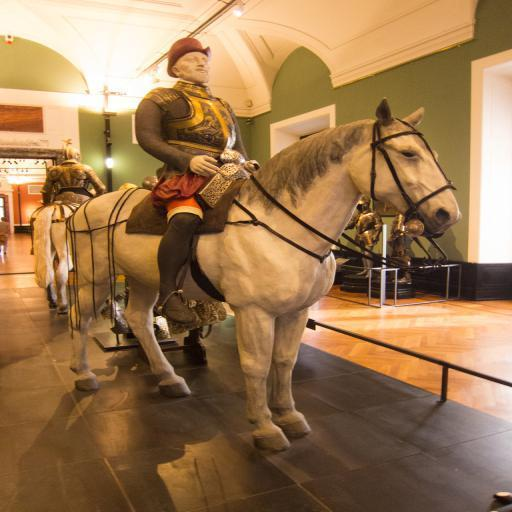horse: (68, 93, 464, 451), (32, 190, 94, 312)
